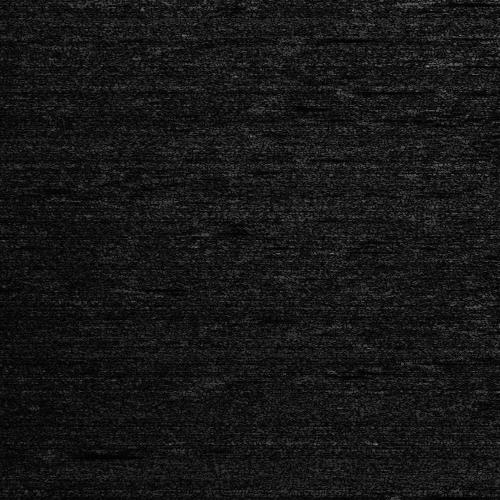rock: (402, 0, 455, 4)
shadow: (429, 0, 500, 4)
